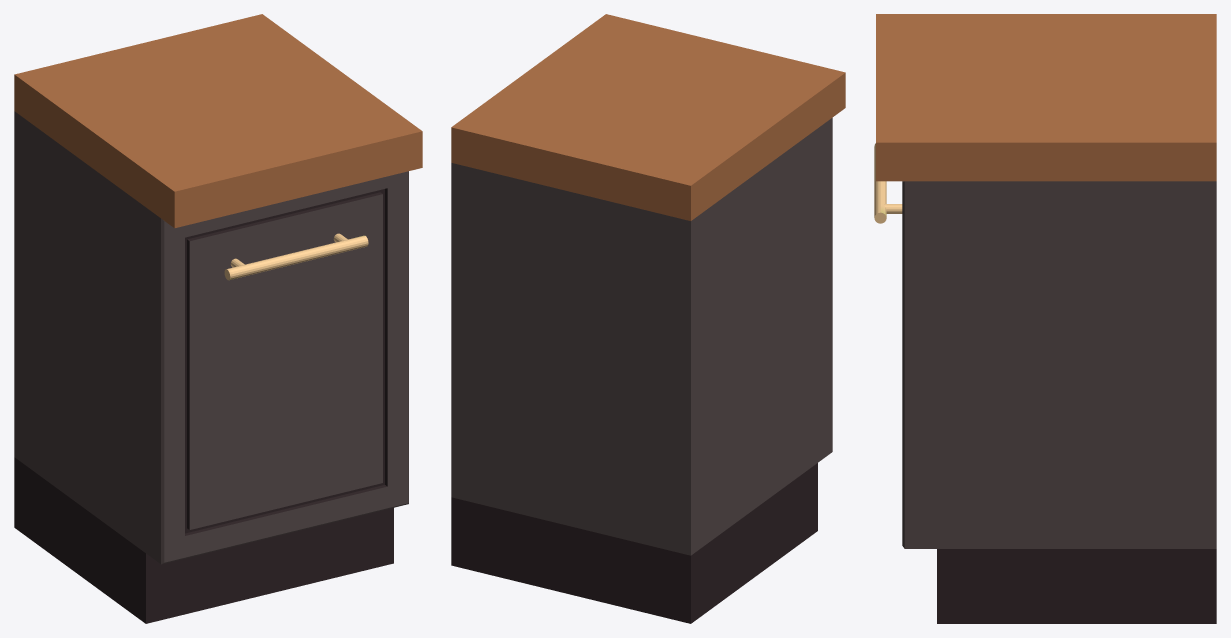
The model's file is Prop_KitchenCabinet_02_A.fbx.
3 renders of one model, left to right at view 1: azimuth 30°, elevation 25°; view 2: azimuth 150°, elevation 25°; view 3: azimuth 270°, elevation 25°, orthographic. The views are drawn at different scales.
Parts seen in each view (by area): view 1: Prop_KitchenCabinet_02_A; view 2: Prop_KitchenCabinet_02_A; view 3: Prop_KitchenCabinet_02_A.
Part boxes in pixels (x1,y1,x2,y2): Prop_KitchenCabinet_02_A: (14,14,422,623); Prop_KitchenCabinet_02_A: (451,14,845,623); Prop_KitchenCabinet_02_A: (874,14,1216,623).
Size of the model in its own units: 60 by 105 by 67.48.
